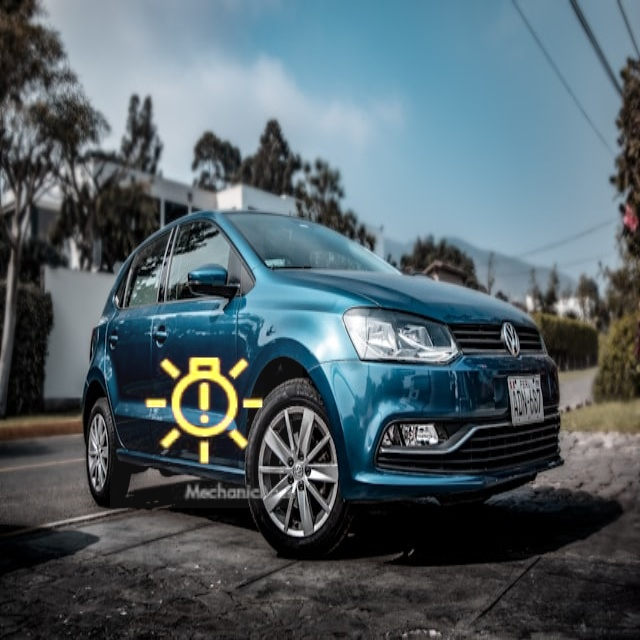symbol: (110, 315, 303, 508)
